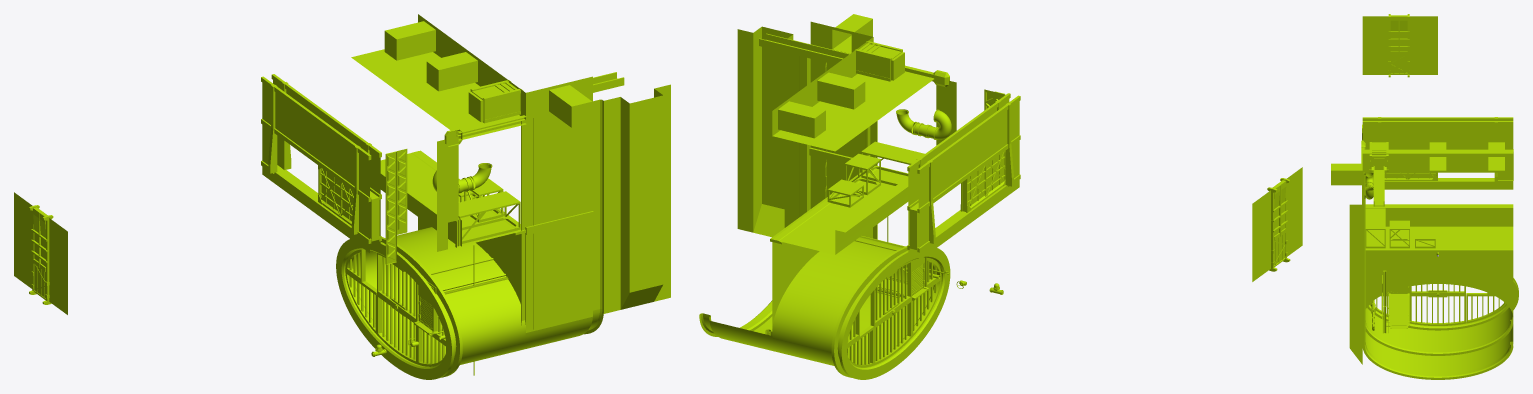
The model's file is WaterWork_Unity 1.fbx.
3 views of the same model, side by side, from view 1: azimuth 30°, elevation 25°; view 2: azimuth 150°, elevation 25°; view 3: azimuth 270°, elevation 25° (orthographic). The views are drawn at different scales.
Visible parts, largest first — view 1: DoorBigFrame, BaseWallCyl, BaseWallDrainUp, BaseWallUp, Grid_Big, BaseWallBot, BaseWallSideSewer, RingTransistor, BaseWallDrainBot, BaseWallCeiling, DoorFrameTall, BaseWallSewer (+19 smaller); view 2: BaseWallCyl, DoorBigFrame, BaseWallDrainUp, Grid_Big, RingTransistor, BaseWallDrainBot, BaseWallSideSewer, BaseWallCeiling, DoorFrameTall, BaseWallFloor, BaseWallSewer, BaseWallDrainFiller (+15 smaller); view 3: DoorBigFrame, DoorFrameTall, BaseWallSideCyl, BaseWallSideSewer, BaseWallCyl, BaseWallFloor, BaseWallCylHalf, BaseWallSideFiller, BaseWallSideStep, Grid_Big, BaseWallDrainUp, BaseBoardLargeRing (+21 smaller).
Boxes of the visible parts, box(x1,y1,x2,y2) form: DoorBigFrame: box(261, 74, 381, 252); BaseWallCyl: box(352, 227, 525, 364); BaseWallDrainUp: box(604, 84, 670, 213); BaseWallUp: box(526, 103, 592, 226); Grid_Big: box(345, 249, 446, 366); BaseWallBot: box(526, 241, 592, 332); BaseWallSideSewer: box(384, 14, 525, 122); RingTransistor: box(336, 237, 462, 379); BaseWallDrainBot: box(603, 222, 670, 313); BaseWallCeiling: box(351, 49, 525, 135); DoorFrameTall: box(14, 192, 67, 314); BaseWallSewer: box(526, 76, 592, 127); BaseWallCyl: box(772, 237, 934, 365); DoorBigFrame: box(907, 93, 1020, 260); BaseWallDrainUp: box(737, 26, 798, 147); Grid_Big: box(847, 257, 941, 367); RingTransistor: box(831, 246, 950, 379); BaseWallDrainBot: box(737, 155, 798, 237); BaseWallSideSewer: box(772, 37, 904, 138); BaseWallCeiling: box(772, 71, 933, 151); DoorFrameTall: box(1252, 167, 1302, 281); BaseWallFloor: box(779, 169, 907, 254); BaseWallSewer: box(810, 14, 872, 53); BaseWallDrainFiller: box(737, 130, 798, 172); DoorBigFrame: box(1362, 117, 1513, 189); DoorFrameTall: box(1362, 14, 1437, 77); BaseWallSideCyl: box(1370, 268, 1513, 315); BaseWallSideSewer: box(1362, 142, 1513, 172); BaseWallCyl: box(1365, 307, 1513, 350); BaseWallFloor: box(1366, 226, 1513, 247); BaseWallCylHalf: box(1365, 324, 1513, 373); BaseWallSideFiller: box(1370, 252, 1513, 268); BaseWallSideStep: box(1366, 208, 1513, 226); Grid_Big: box(1370, 284, 1506, 325); BaseWallDrainUp: box(1349, 204, 1362, 293); BaseBoardLargeRing: box(1362, 341, 1513, 379).
Size of the model in its own units: 4530 by 2087 by 1736.
